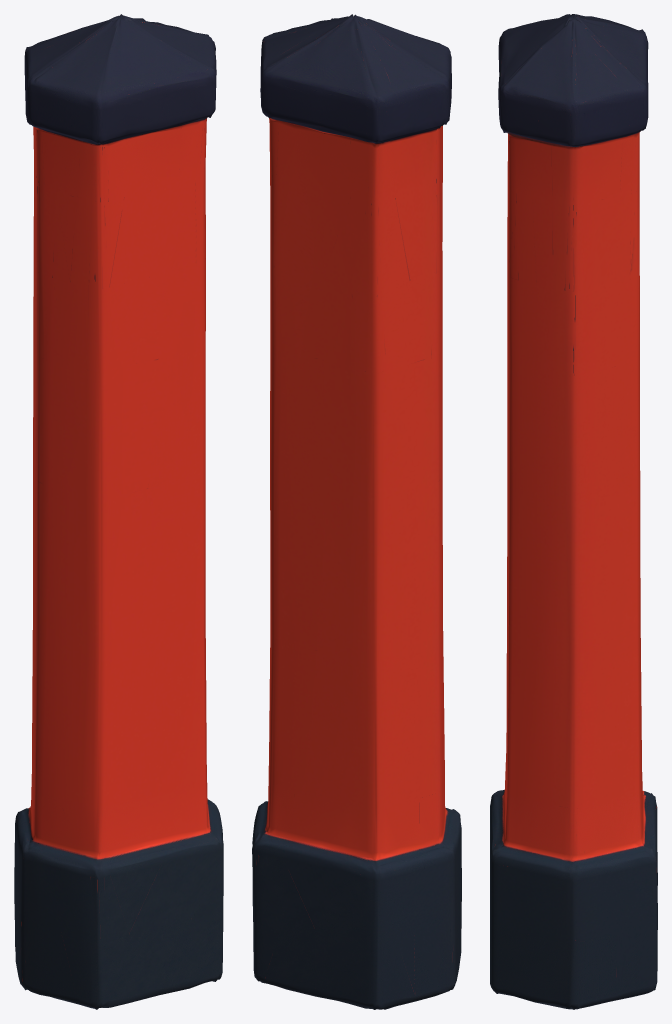
File: column_pillar.glb
3 renders of one model, left to right at view 1: azimuth 30°, elevation 25°; view 2: azimuth 150°, elevation 25°; view 3: azimuth 270°, elevation 25°, orthographic.
Size of the model in its own units: 0.2153 by 1 by 0.1606.
1 material, 1 textured.
